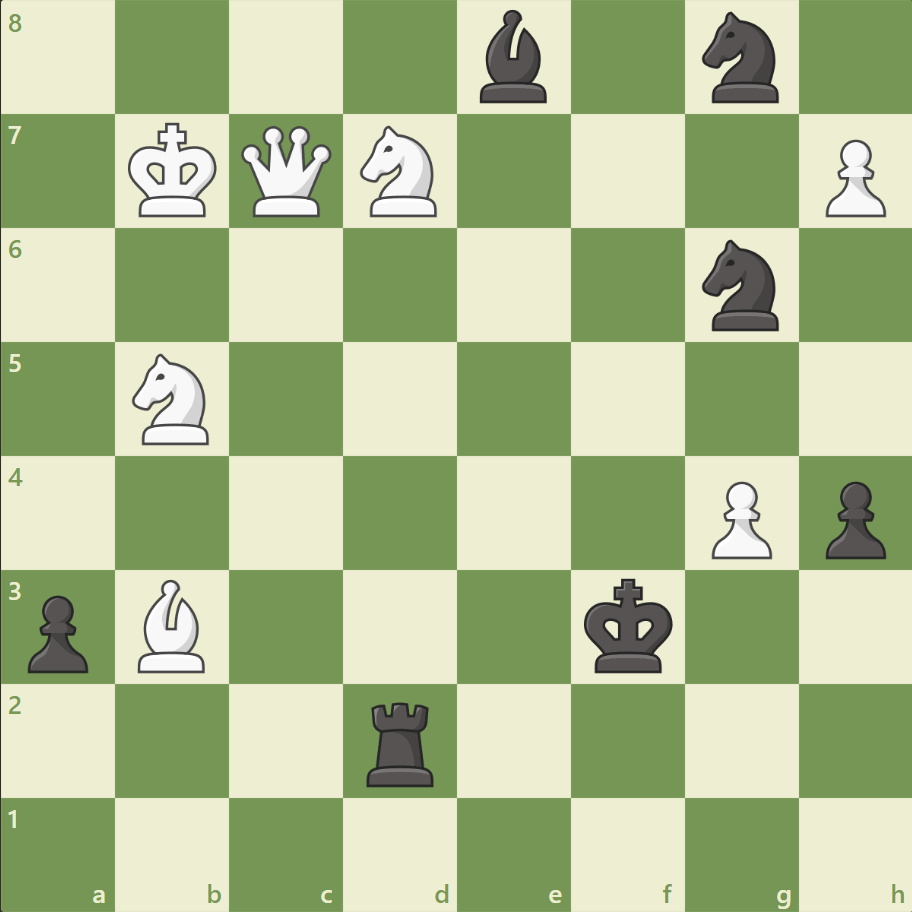B: (131, 574, 215, 676)
K: (124, 117, 224, 225)
N: (351, 121, 449, 223), (124, 348, 222, 450)
P: (701, 473, 776, 564), (815, 132, 889, 223)
Q: (237, 122, 336, 222)
b: (471, 6, 555, 109)
k: (579, 571, 679, 679)
n: (692, 7, 789, 110), (692, 234, 789, 337)
p: (20, 586, 95, 677), (815, 473, 889, 564)
r: (360, 693, 442, 790)
